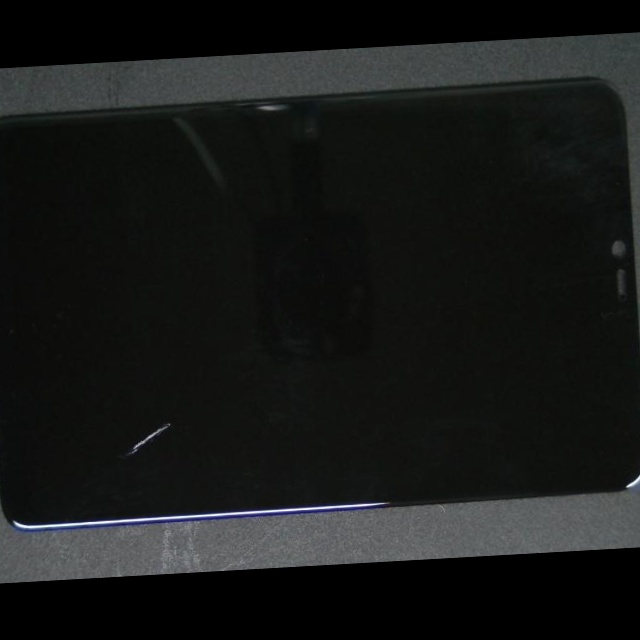scratch: (97, 216, 248, 577)
